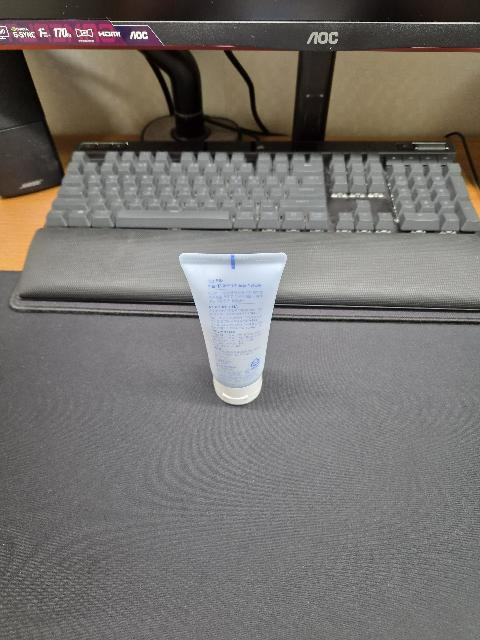handcream: (179, 253, 287, 405)
